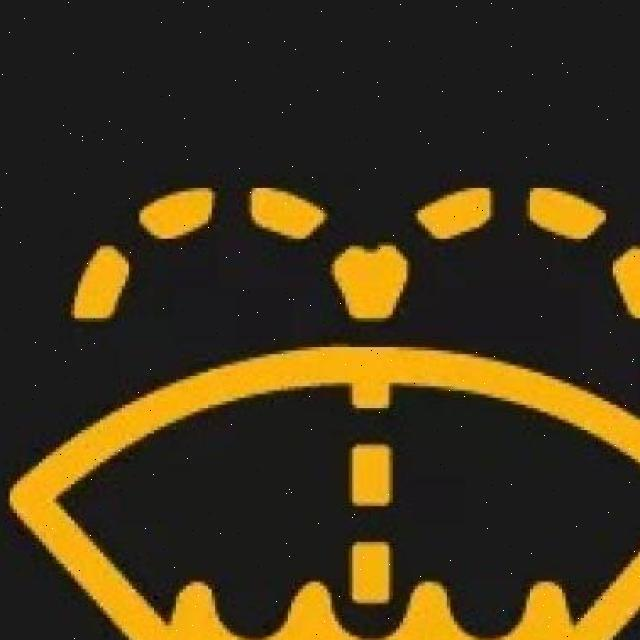Washer Fluid: (11, 186, 640, 640)
